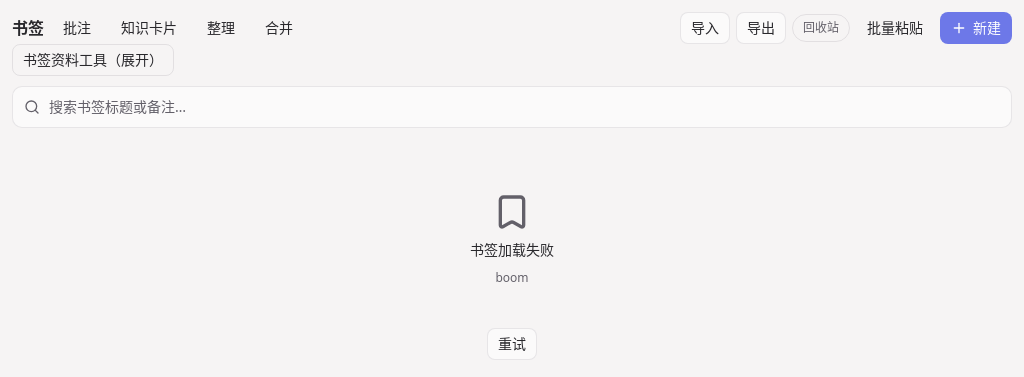
it: BookmarksPage › 空态与错误态：请求失败显示错误 + 重试；重试成功后显示空态文案
The width and height of the screenshot is (1024, 377).
Expected: the text "书签加载失败" is shown, [470,240,554,260]
Step 1. Click the button "重试" → (512, 344), box [487,328,537,360]
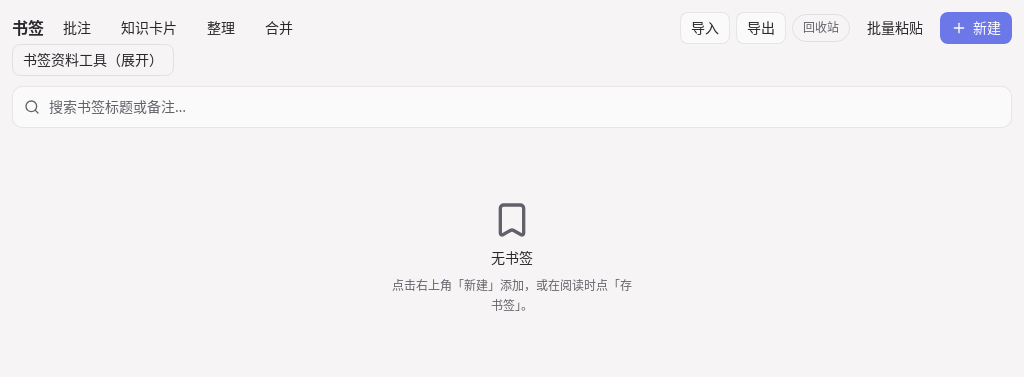
Expected: the text "无书签" is shown, [491,248,533,268]
